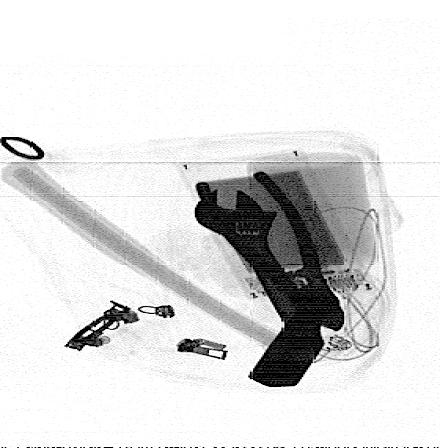Hammer: (5, 156, 328, 387)
Pliers: (193, 169, 344, 332)
Powerbank: (176, 147, 377, 300)
Wrench: (194, 188, 327, 356)
